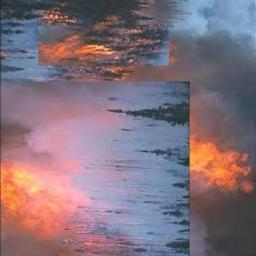Heavy smoke: (0, 81, 189, 256), (1, 1, 256, 81), (191, 80, 255, 255)
Large fire: (37, 23, 172, 68)
